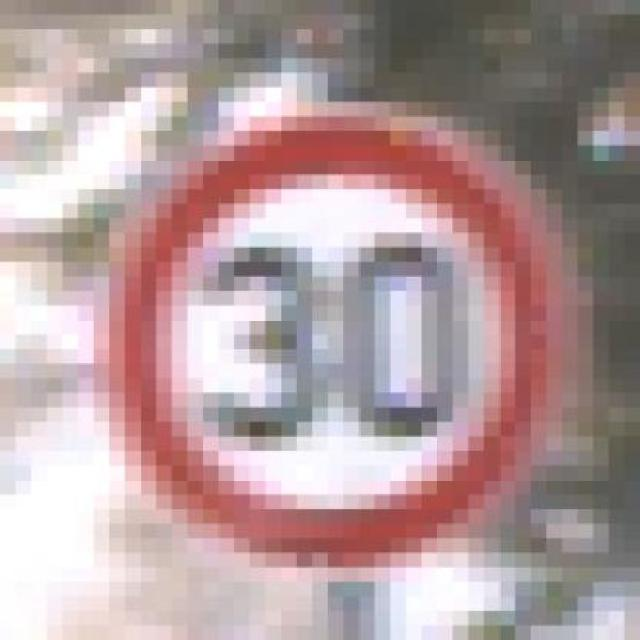forb_speed_over_30: (123, 124, 546, 555)
